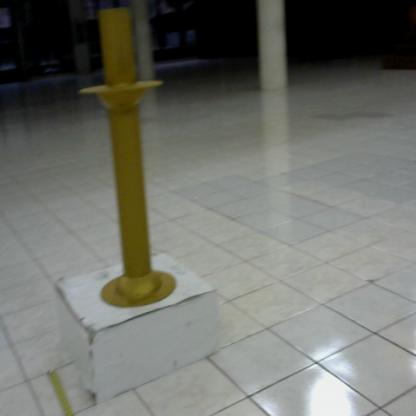pole: (68, 1, 186, 314)
